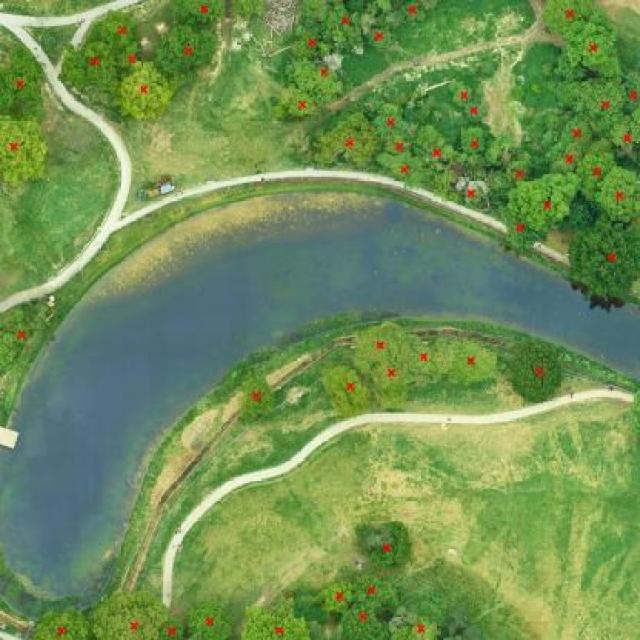tree: (563, 216, 640, 302), (83, 584, 164, 640), (507, 170, 581, 228), (506, 339, 568, 407), (365, 339, 418, 412), (314, 112, 378, 172), (112, 65, 178, 122), (156, 24, 222, 78), (0, 119, 51, 187), (1, 41, 41, 122), (238, 597, 310, 640), (572, 78, 634, 127), (63, 39, 122, 86), (598, 165, 640, 224), (566, 23, 616, 71), (90, 12, 144, 56), (361, 522, 412, 568), (331, 603, 391, 640), (31, 600, 86, 640), (185, 595, 233, 640), (292, 58, 343, 96), (342, 575, 402, 607), (542, 1, 602, 33), (550, 113, 598, 153), (276, 86, 324, 123), (236, 373, 275, 418), (292, 14, 328, 61), (497, 211, 543, 247), (315, 577, 359, 612), (328, 368, 369, 404), (604, 120, 640, 160), (421, 124, 452, 170), (456, 179, 496, 213), (544, 143, 590, 172), (116, 38, 149, 77), (452, 346, 490, 379), (173, 0, 230, 22), (406, 340, 439, 375), (0, 321, 37, 352), (374, 155, 417, 179), (396, 614, 435, 640), (568, 194, 595, 231), (376, 103, 404, 137), (508, 153, 532, 190), (375, 135, 417, 156), (225, 1, 269, 21), (365, 330, 393, 358), (456, 101, 490, 124), (624, 69, 640, 116), (395, 0, 431, 20), (456, 132, 489, 153), (2, 301, 27, 328), (368, 24, 390, 48), (452, 81, 474, 105), (163, 617, 183, 640), (369, 0, 393, 18), (344, 0, 368, 17), (336, 10, 352, 32)
